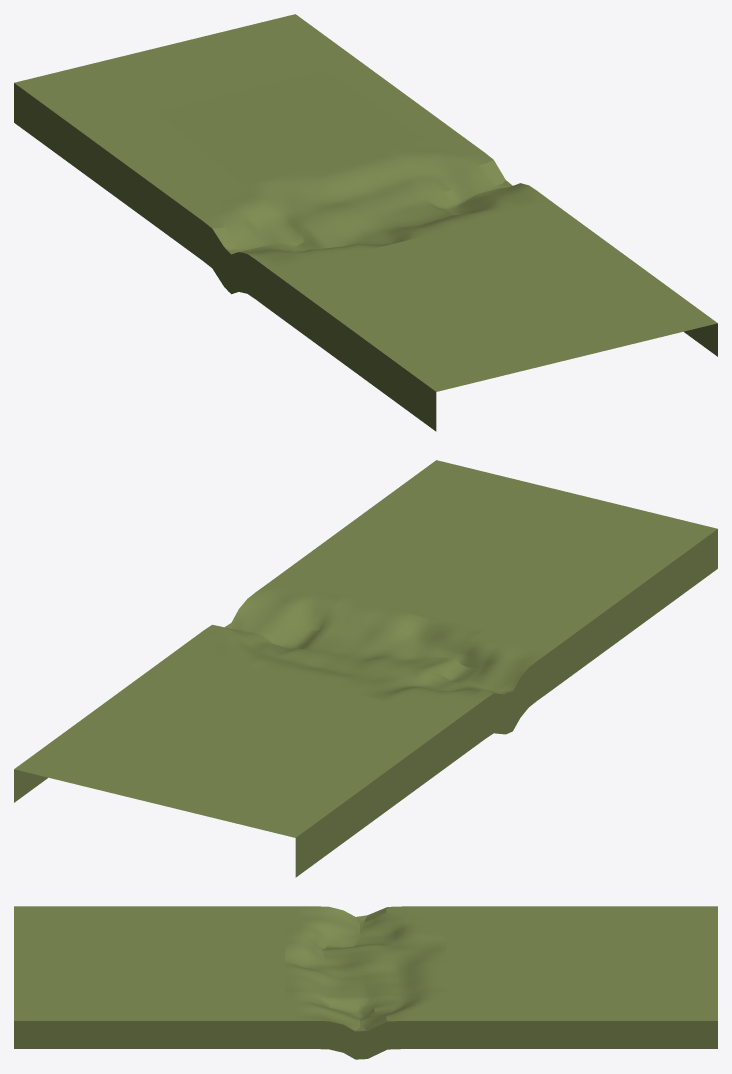
Rendered from Tole_2.fbx.
The picture shows the model from 3 angles, top to bottom: view 1: azimuth 30°, elevation 25°; view 2: azimuth 150°, elevation 25°; view 3: azimuth 270°, elevation 25°; orthographic projection. The views are drawn at different scales.
Parts seen in each view (by area): view 1: Tile 6.002; view 2: Tile 6.002; view 3: Tile 6.002.
Boxes of the visible parts, bbox=[...] form: Tile 6.002: bbox=[14, 14, 717, 431]; Tile 6.002: bbox=[14, 460, 717, 877]; Tile 6.002: bbox=[14, 906, 717, 1059].
Size of the model in its own units: 5000 by 895 by 12991.
